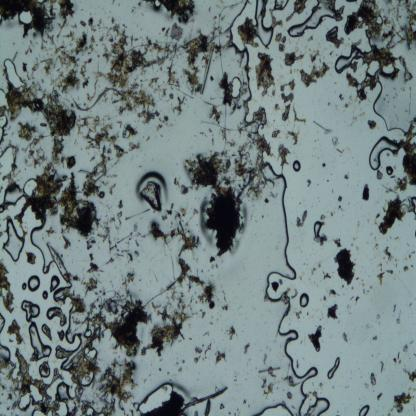Air bubble: (258, 173, 300, 326), (275, 321, 320, 413), (370, 77, 408, 134), (286, 0, 333, 38), (28, 220, 56, 275), (136, 381, 172, 415), (368, 134, 400, 170), (28, 322, 53, 361), (254, 0, 274, 47), (3, 220, 24, 262), (334, 44, 362, 73), (17, 382, 43, 412), (64, 305, 83, 345), (180, 262, 206, 290), (4, 58, 26, 90), (254, 402, 293, 416), (19, 297, 40, 322), (306, 397, 330, 416), (47, 305, 67, 327), (0, 191, 18, 214), (53, 285, 74, 303), (327, 357, 341, 379), (27, 274, 42, 293), (38, 359, 52, 379), (0, 114, 9, 144), (23, 178, 38, 196), (0, 340, 11, 364), (17, 9, 33, 25), (231, 77, 242, 99), (367, 59, 380, 76), (0, 86, 9, 109), (42, 323, 53, 341), (81, 372, 95, 386), (56, 401, 69, 416), (31, 408, 54, 416), (50, 274, 60, 292), (313, 220, 324, 236), (274, 0, 288, 12), (299, 292, 309, 308), (0, 311, 6, 335), (382, 63, 395, 74), (359, 404, 370, 416), (292, 159, 302, 171), (85, 406, 94, 416), (386, 166, 394, 175), (376, 15, 383, 25), (43, 290, 48, 301), (21, 282, 27, 291), (154, 0, 161, 7), (358, 16, 364, 22), (317, 326, 322, 332)
Background material: (199, 184, 251, 258), (102, 295, 152, 356), (18, 163, 65, 222), (75, 115, 128, 165), (60, 171, 100, 236), (98, 14, 132, 89), (234, 134, 274, 194), (0, 0, 55, 43), (143, 310, 192, 357), (46, 36, 81, 95), (100, 356, 138, 402), (132, 38, 183, 72), (43, 89, 77, 139), (184, 148, 221, 190), (117, 85, 156, 123), (346, 0, 380, 41), (4, 85, 48, 115), (378, 194, 408, 235), (82, 155, 110, 197), (45, 239, 72, 281), (346, 68, 380, 100), (70, 94, 122, 113), (38, 367, 62, 406), (184, 32, 210, 68), (254, 51, 275, 95), (173, 220, 200, 254), (160, 0, 198, 24), (397, 138, 416, 186), (398, 0, 416, 49), (299, 62, 331, 87), (84, 309, 108, 341), (80, 270, 107, 298), (73, 354, 100, 382), (236, 17, 260, 48), (336, 248, 356, 285), (213, 152, 234, 186), (364, 46, 394, 68), (52, 380, 75, 406), (70, 34, 99, 54), (217, 70, 233, 106), (23, 146, 48, 168), (182, 68, 203, 94), (198, 283, 217, 310), (380, 18, 398, 45), (68, 290, 88, 314), (120, 267, 136, 296), (285, 0, 307, 20), (393, 391, 412, 414), (6, 170, 22, 197), (58, 0, 76, 23), (219, 126, 236, 150), (151, 221, 168, 245), (292, 102, 308, 127), (165, 66, 181, 91), (326, 26, 344, 48), (164, 273, 183, 293), (17, 122, 38, 140), (50, 136, 63, 165), (399, 55, 413, 81), (13, 213, 28, 237), (79, 61, 90, 91), (282, 52, 304, 67), (86, 78, 99, 103), (404, 115, 416, 142), (97, 223, 112, 244), (170, 20, 184, 42), (309, 331, 324, 351), (284, 364, 296, 388), (270, 7, 283, 29), (172, 96, 186, 116), (278, 144, 289, 169), (99, 399, 115, 416), (148, 76, 165, 92), (80, 16, 96, 33), (116, 230, 134, 245), (258, 365, 280, 377), (24, 137, 48, 148), (43, 52, 54, 76), (400, 366, 416, 382), (349, 110, 365, 126), (214, 40, 232, 54), (208, 105, 221, 124), (81, 399, 96, 414), (380, 183, 398, 195), (27, 62, 39, 80), (314, 122, 332, 134), (176, 291, 186, 312), (64, 154, 77, 170), (72, 314, 85, 330), (210, 24, 220, 44), (125, 124, 138, 139), (326, 304, 339, 319), (107, 240, 122, 253), (396, 176, 408, 192), (222, 0, 241, 10), (407, 196, 416, 217), (230, 100, 243, 114), (383, 246, 394, 262), (176, 206, 188, 220), (262, 383, 274, 397), (288, 131, 299, 146), (61, 235, 72, 250), (215, 351, 227, 364), (27, 252, 38, 266), (313, 234, 327, 245), (281, 104, 290, 121), (75, 387, 84, 404), (297, 210, 306, 227), (148, 268, 158, 283), (54, 348, 70, 357), (361, 184, 370, 200), (116, 210, 124, 228), (150, 299, 162, 311), (309, 49, 320, 62), (283, 79, 296, 90), (390, 66, 400, 80), (128, 141, 142, 151), (376, 271, 386, 285), (24, 41, 34, 55), (254, 110, 265, 122), (396, 0, 402, 22), (326, 0, 336, 13), (282, 288, 290, 304), (86, 236, 95, 250), (204, 398, 211, 416), (164, 295, 172, 310), (270, 281, 280, 293), (236, 52, 244, 67), (1, 176, 16, 184), (11, 156, 18, 172), (70, 402, 78, 416), (332, 237, 342, 248), (284, 92, 294, 103), (242, 80, 249, 95), (108, 181, 116, 194), (204, 343, 212, 356), (181, 183, 189, 196), (21, 59, 29, 72), (367, 120, 377, 130), (119, 402, 126, 416), (244, 341, 252, 353), (328, 290, 340, 298), (126, 252, 134, 264), (174, 176, 181, 189), (261, 377, 268, 390), (396, 309, 402, 324), (170, 286, 176, 300), (408, 86, 411, 114), (334, 10, 343, 19), (387, 7, 396, 16), (322, 271, 331, 280), (151, 4, 161, 12), (376, 392, 384, 402), (272, 130, 282, 138), (229, 326, 235, 339), (57, 330, 64, 341), (202, 53, 209, 64), (193, 356, 202, 364), (262, 352, 268, 364), (332, 135, 338, 147), (161, 116, 169, 125), (194, 346, 203, 354), (291, 288, 298, 298), (402, 343, 409, 353), (189, 295, 194, 309), (371, 373, 376, 387), (91, 380, 98, 390), (342, 332, 348, 343), (143, 0, 154, 6), (278, 44, 286, 52), (90, 263, 98, 271), (270, 191, 278, 199), (138, 230, 146, 238), (294, 311, 302, 319), (106, 257, 114, 265), (167, 91, 174, 100), (377, 170, 383, 180), (114, 252, 124, 258), (192, 208, 199, 216), (202, 331, 210, 338), (156, 124, 163, 132), (199, 130, 207, 137), (161, 213, 168, 221), (380, 360, 384, 374), (275, 33, 282, 41), (408, 386, 416, 393), (274, 103, 281, 111), (72, 275, 80, 282), (13, 52, 18, 63), (344, 0, 357, 4), (221, 304, 228, 311), (166, 208, 173, 215), (210, 256, 217, 263), (48, 230, 56, 236), (130, 408, 136, 416), (134, 239, 140, 247), (310, 266, 316, 274), (364, 382, 370, 390), (318, 382, 324, 390), (344, 173, 350, 181), (89, 253, 95, 261), (306, 179, 312, 187), (170, 229, 175, 238), (271, 87, 276, 96), (84, 376, 91, 382), (286, 392, 292, 399), (338, 93, 344, 100), (262, 294, 268, 301), (99, 192, 105, 199), (162, 88, 167, 96), (376, 212, 381, 220), (178, 366, 183, 374), (318, 260, 323, 268), (378, 262, 382, 272), (313, 390, 318, 398), (165, 28, 170, 36), (281, 36, 287, 42), (403, 266, 409, 272), (344, 102, 350, 108), (330, 211, 336, 217), (336, 148, 342, 154), (389, 406, 395, 412), (394, 236, 400, 242), (134, 251, 139, 258), (143, 377, 148, 384), (386, 270, 393, 275), (214, 386, 219, 393), (293, 68, 300, 73), (210, 74, 214, 82), (134, 224, 138, 232), (122, 250, 130, 254), (374, 243, 378, 251), (372, 334, 376, 342), (279, 278, 283, 286), (223, 291, 226, 301), (211, 137, 214, 147), (388, 0, 394, 5), (264, 198, 270, 203), (308, 36, 314, 41), (219, 403, 224, 409), (320, 214, 325, 220), (211, 262, 215, 269), (392, 305, 396, 312), (296, 362, 300, 369), (355, 296, 360, 301), (202, 356, 207, 361), (365, 324, 370, 329), (68, 330, 73, 335), (146, 135, 150, 141), (138, 0, 142, 6), (236, 408, 240, 414), (338, 206, 344, 210), (348, 96, 352, 102), (382, 206, 386, 212), (344, 385, 350, 389), (357, 220, 360, 228), (194, 410, 198, 416), (162, 26, 166, 32), (0, 232, 4, 238), (0, 186, 3, 194), (158, 366, 162, 372), (386, 152, 390, 158), (202, 312, 205, 319), (397, 352, 400, 359), (408, 253, 412, 258), (209, 321, 214, 325), (411, 250, 416, 254), (376, 314, 380, 319), (408, 302, 412, 307), (414, 228, 416, 238), (409, 340, 413, 345), (350, 296, 355, 300), (295, 47, 299, 52), (60, 158, 65, 162), (322, 296, 326, 301), (318, 58, 322, 63), (0, 162, 3, 168), (320, 310, 323, 316), (171, 203, 174, 209), (208, 6, 211, 12), (329, 50, 332, 56), (114, 174, 118, 178), (112, 351, 116, 355), (360, 278, 364, 282), (333, 81, 337, 85), (358, 100, 362, 104), (404, 257, 408, 261), (119, 200, 123, 204), (306, 312, 310, 316), (353, 237, 357, 241), (209, 128, 213, 132), (356, 276, 360, 280), (374, 221, 378, 225), (213, 16, 217, 20), (308, 390, 312, 394), (406, 243, 410, 247), (396, 92, 399, 97), (362, 289, 365, 294), (331, 189, 334, 194), (243, 399, 246, 404), (374, 236, 377, 241), (216, 264, 219, 269), (351, 286, 354, 290), (228, 412, 231, 416), (183, 360, 186, 364), (233, 371, 236, 375), (327, 102, 330, 106), (411, 264, 414, 268), (322, 55, 325, 59), (394, 358, 396, 364), (350, 243, 354, 246), (299, 201, 302, 205), (401, 88, 405, 91), (370, 232, 373, 236), (370, 286, 373, 290), (322, 222, 326, 225), (289, 70, 292, 74), (234, 412, 237, 416), (395, 263, 398, 267), (387, 413, 391, 416), (233, 379, 237, 382), (399, 359, 401, 364), (335, 414, 340, 416), (357, 246, 359, 251), (309, 278, 311, 283), (167, 372, 170, 375), (195, 301, 198, 304), (413, 353, 416, 356), (234, 375, 237, 378), (389, 236, 392, 239), (189, 337, 192, 340), (326, 179, 329, 182), (177, 361, 179, 365), (342, 148, 344, 152), (300, 276, 302, 280), (248, 404, 250, 408), (368, 274, 370, 278), (338, 320, 340, 324), (372, 389, 374, 393), (366, 290, 370, 292), (342, 284, 344, 288), (348, 148, 351, 150), (202, 344, 204, 347), (200, 310, 203, 312), (362, 283, 364, 286), (348, 202, 350, 205), (395, 259, 397, 262), (337, 410, 339, 413), (317, 139, 320, 141), (314, 139, 316, 142), (393, 96, 395, 99), (319, 318, 322, 320), (348, 304, 349, 309), (322, 317, 324, 319), (348, 313, 352, 314), (367, 219, 369, 221), (317, 184, 319, 186), (306, 264, 308, 266), (357, 184, 359, 186), (304, 263, 306, 265), (273, 119, 275, 121), (352, 156, 354, 158), (362, 226, 364, 228), (344, 161, 345, 164), (331, 173, 332, 175), (357, 164, 358, 166), (318, 197, 319, 199), (318, 157, 319, 159)
Diatom: (85, 347, 98, 361), (148, 112, 156, 121), (84, 330, 92, 338), (122, 130, 127, 140), (280, 92, 286, 100), (154, 109, 160, 117), (338, 194, 342, 203), (179, 258, 185, 264), (141, 349, 146, 356), (280, 85, 285, 91), (40, 123, 47, 127), (10, 307, 14, 313), (322, 162, 326, 167), (334, 257, 337, 263), (119, 204, 122, 209), (102, 332, 104, 338)
Fragment: (142, 178, 163, 214)
Glass filter fibre: (181, 386, 228, 414), (200, 42, 215, 94), (219, 8, 224, 76), (125, 208, 150, 219)
